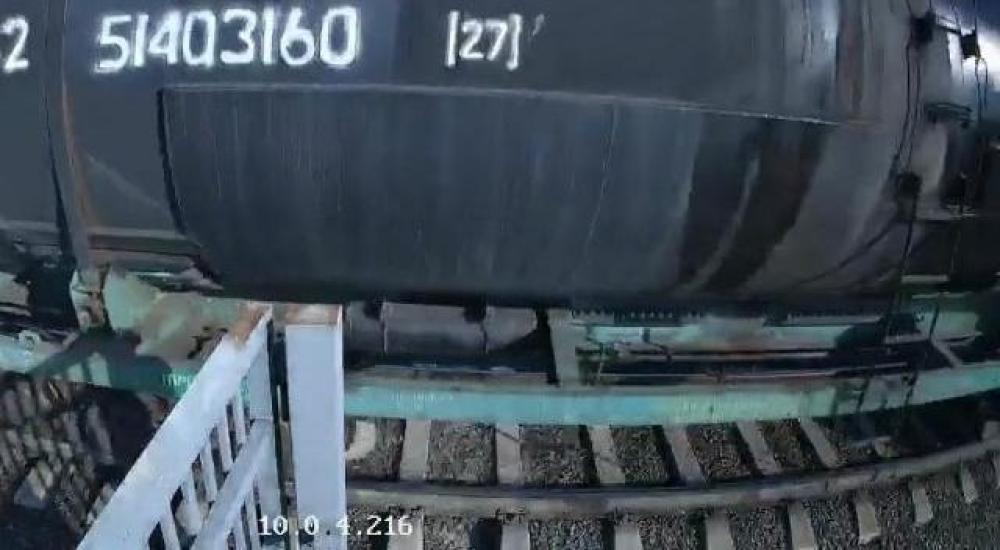Wagon-number: (90, 0, 369, 75)
